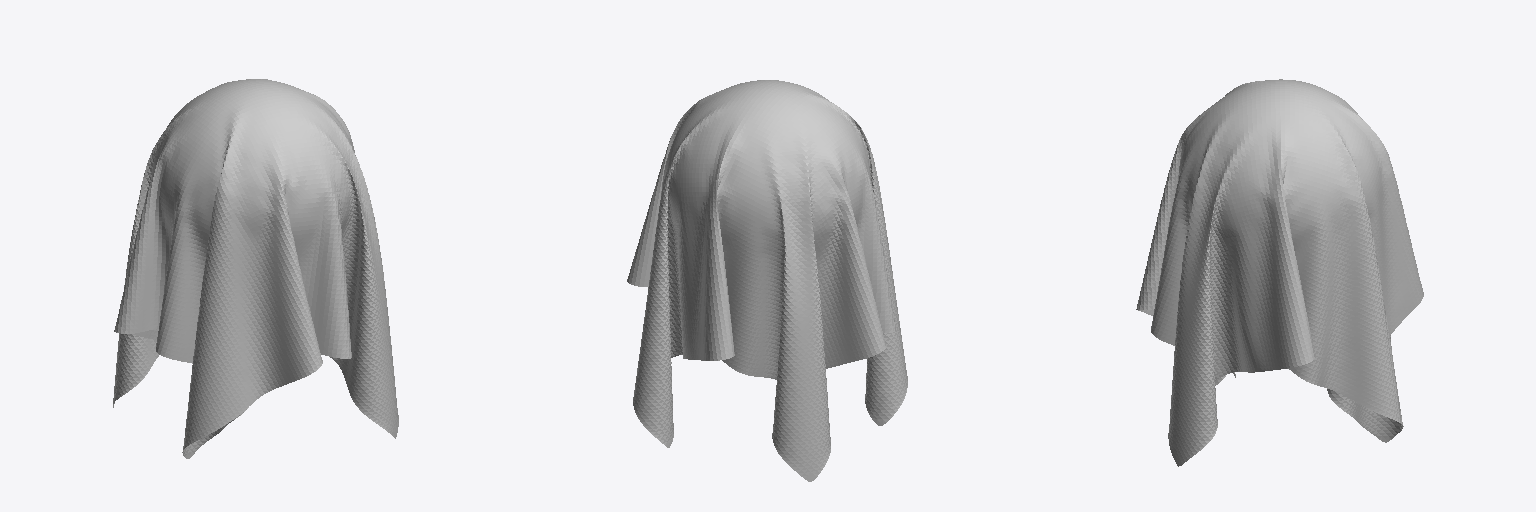
Rendered from Cloth.obj.
The picture shows the model from 3 angles: view 1: azimuth 30°, elevation 25°; view 2: azimuth 150°, elevation 25°; view 3: azimuth 270°, elevation 25°; orthographic projection.
Parts seen in each view (by area): view 1: Cloth_Plane.002; view 2: Cloth_Plane.002; view 3: Cloth_Plane.002.
Boxes of the visible parts, box(x1,y1,x2,y2) form: Cloth_Plane.002: box(113, 79, 398, 458); Cloth_Plane.002: box(627, 80, 907, 481); Cloth_Plane.002: box(1136, 79, 1423, 466).
Bounding box in the file's own units: 2.94 × 3.66 × 2.85.